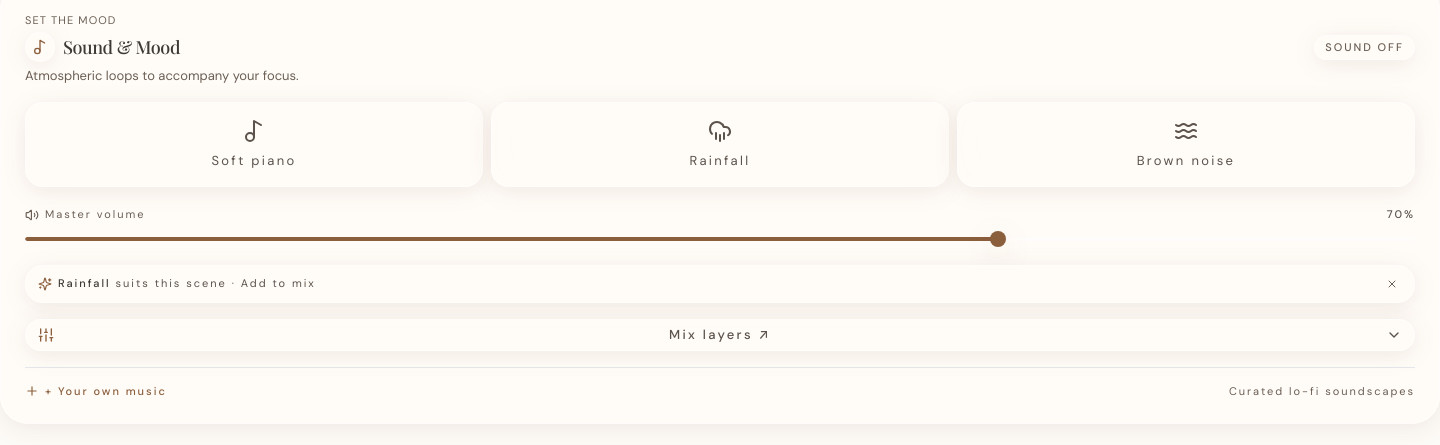
Test: SetTheMoodCard › status chip primes audio on first click and toggles playback
Click the button "SOUND OFF" at (1365, 47), box [1314, 35, 1415, 60]
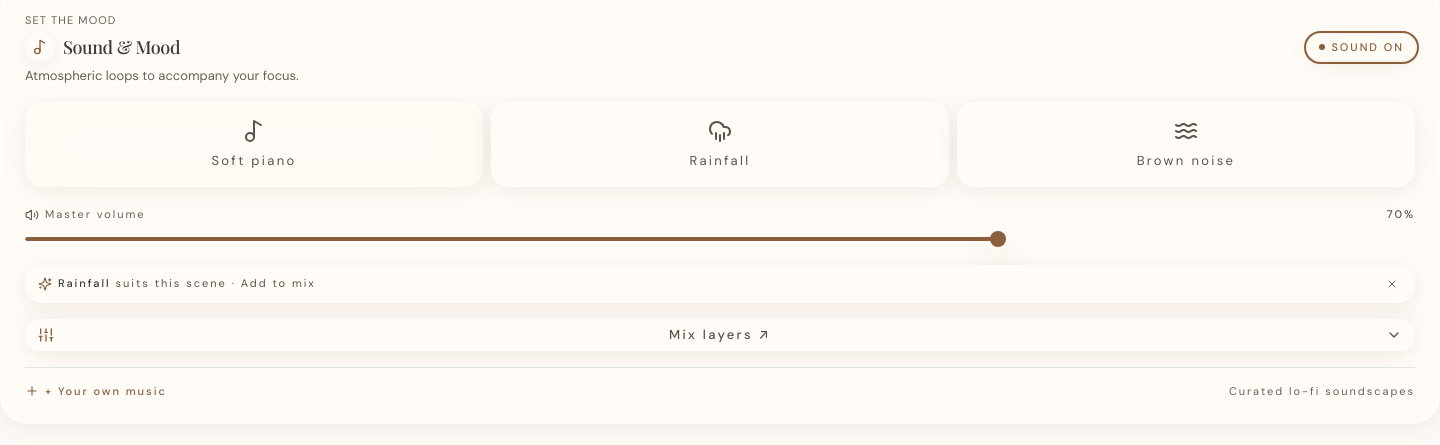
expect the text "SOUND ON" is shown: met, box [1331, 40, 1404, 55]
